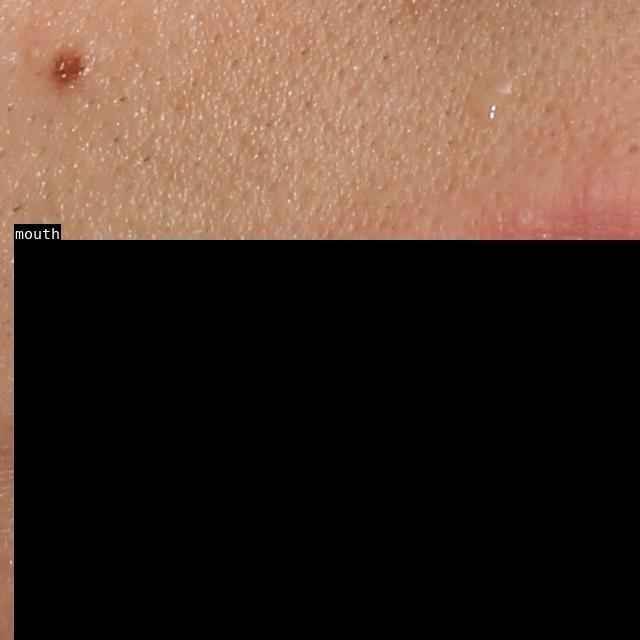nevus: (49, 44, 88, 89)
